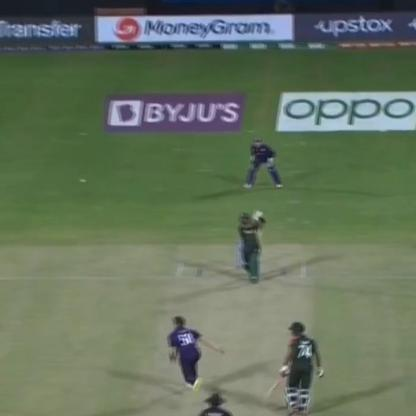ball: (76, 172, 90, 186)
pitch: (162, 242, 310, 416)
